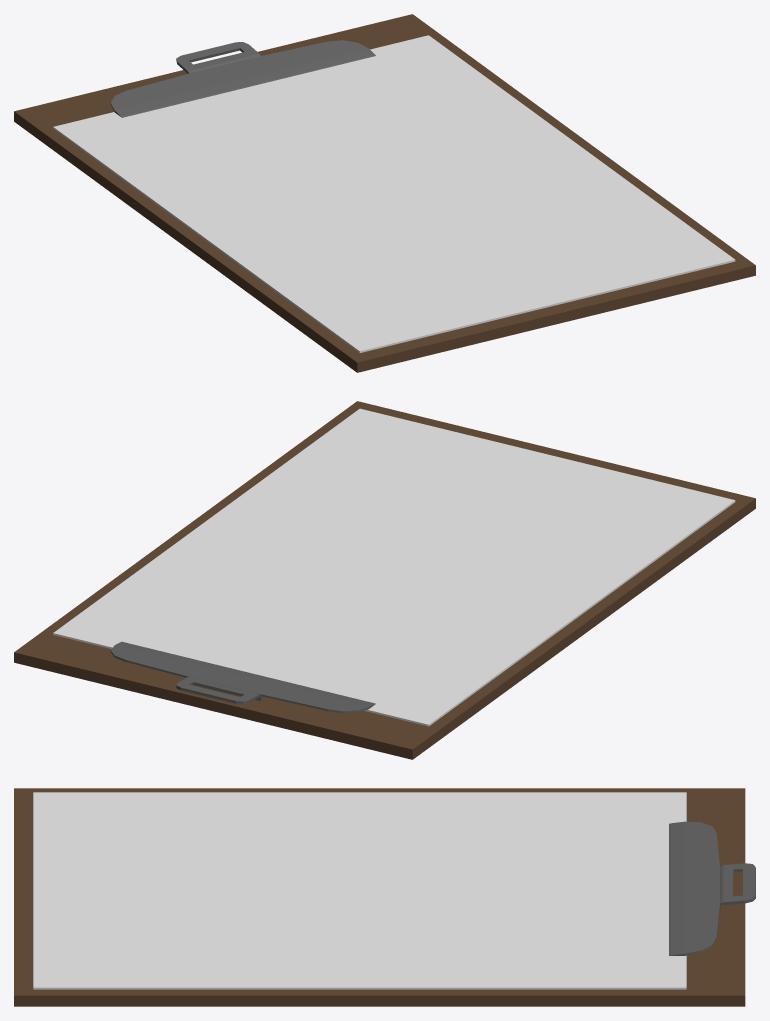
File: Clipboard.fbx
3 renders of one model, top to bottom at view 1: azimuth 30°, elevation 25°; view 2: azimuth 150°, elevation 25°; view 3: azimuth 270°, elevation 25°, orthographic. The views are drawn at different scales.
Visible parts, largest first — view 1: Cube.002, Cube; view 2: Cube.002, Cube; view 3: Cube.002, Cube.
Boxes of the visible parts, x1=… form: Cube.002: x1=14, y1=14, x2=755, y2=372; Cube: x1=110, y1=40, x2=375, y2=117; Cube.002: x1=14, y1=401, x2=755, y2=759; Cube: x1=110, y1=641, x2=375, y2=713; Cube.002: x1=14, y1=788, x2=745, y2=1006; Cube: x1=669, y1=821, x2=755, y2=955.
Bounding box in the file's own units: 22.29 × 1.1 × 33.73.
